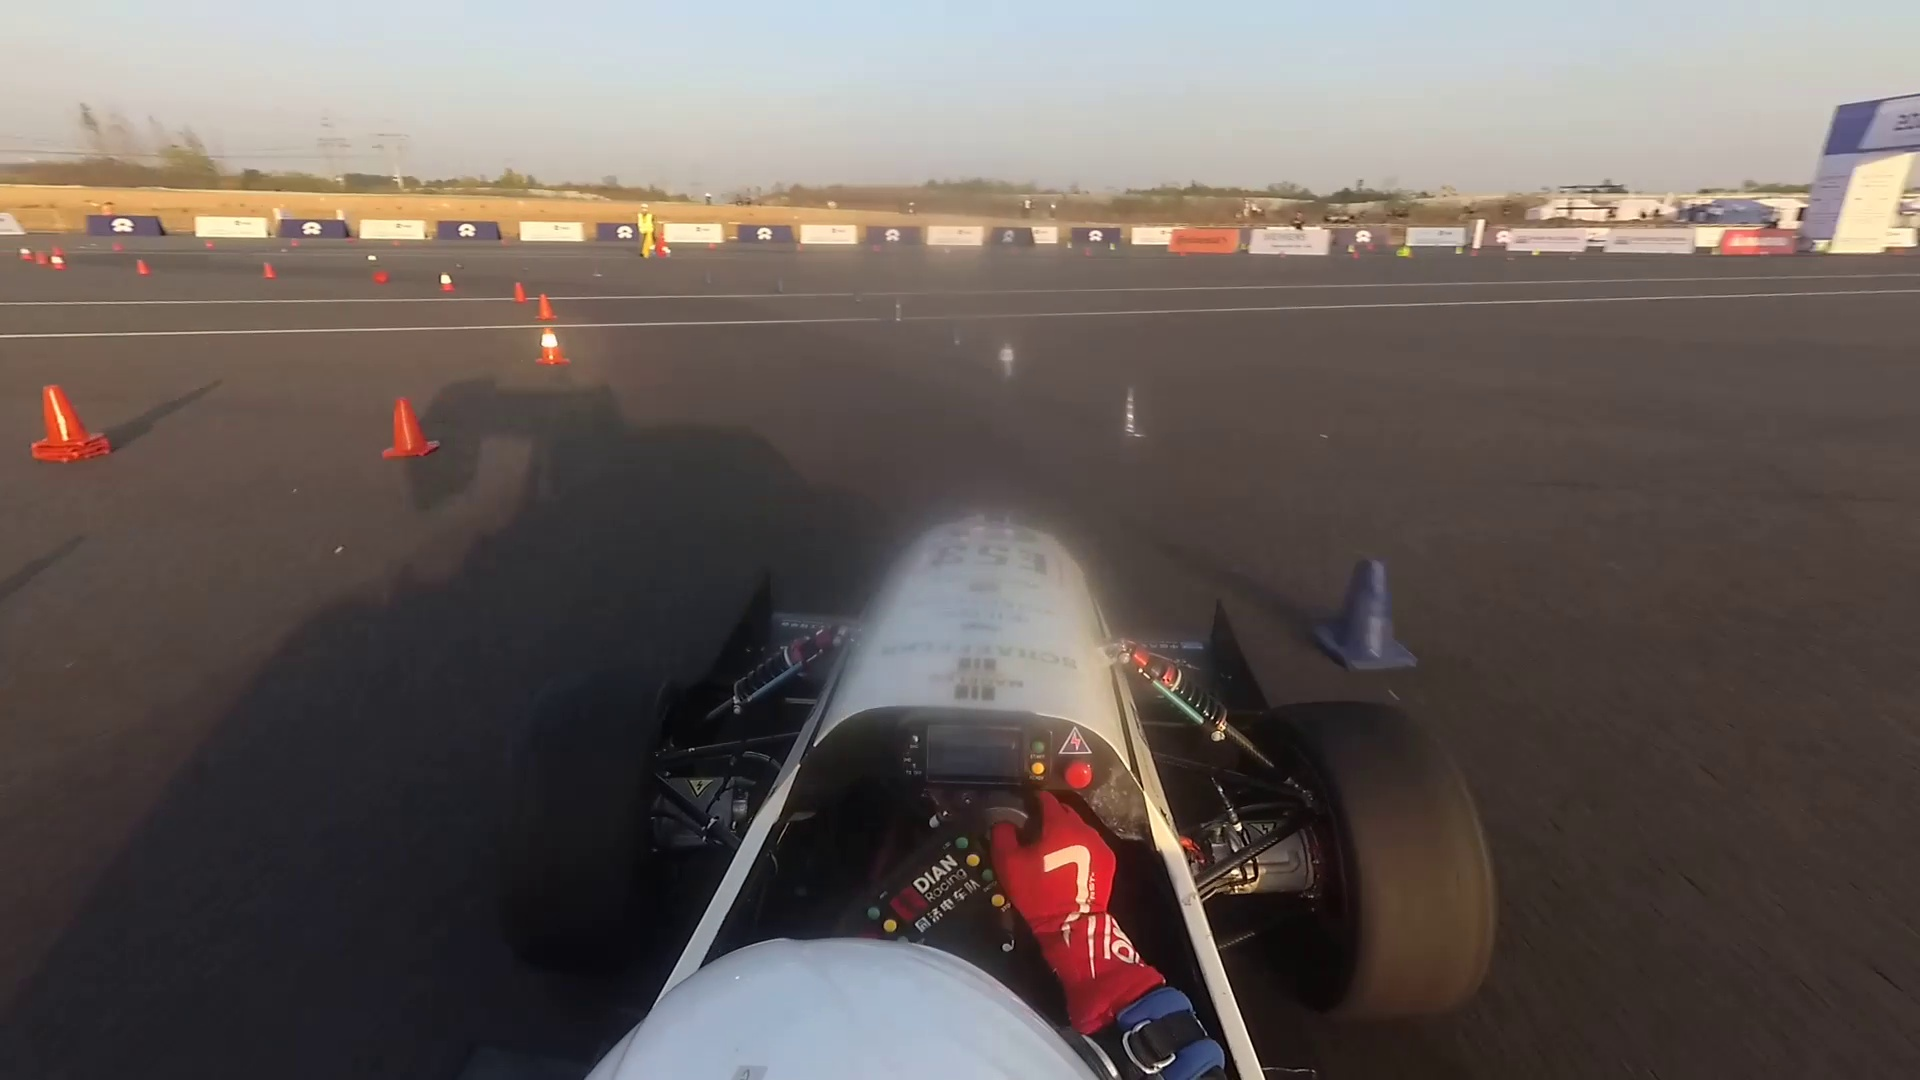blue_cone: (1305, 550, 1437, 682), (981, 327, 1040, 386), (1109, 382, 1151, 462), (889, 287, 911, 331)
red_cone: (24, 375, 115, 465), (378, 389, 447, 463), (534, 328, 570, 372), (534, 289, 562, 328), (433, 266, 462, 295), (131, 256, 156, 280), (49, 245, 73, 270), (509, 280, 530, 306), (256, 261, 284, 281), (15, 243, 34, 261), (371, 266, 389, 284)
